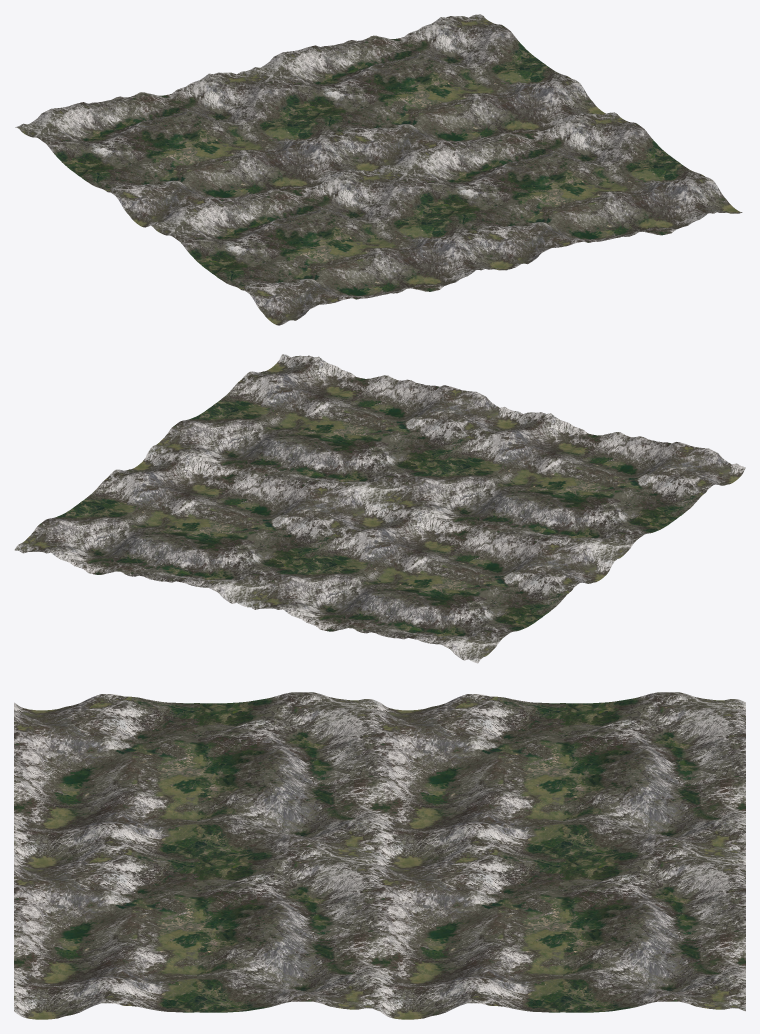
File: terrain.glb
3 views of the same model, one above another, from view 1: azimuth 30°, elevation 25°; view 2: azimuth 150°, elevation 25°; view 3: azimuth 270°, elevation 25° (orthographic). The views are drawn at different scales.
Parts seen in each view (by area): view 1: Terrain; view 2: Terrain; view 3: Terrain.
Boxes of the visible parts, bbox=[...] form: Terrain: bbox=[15, 14, 742, 325]; Terrain: bbox=[14, 354, 745, 663]; Terrain: bbox=[14, 692, 745, 1019].
Size of the model in its own units: 379 by 17.74 by 379.
Materials: 1 (1 with a texture image).
